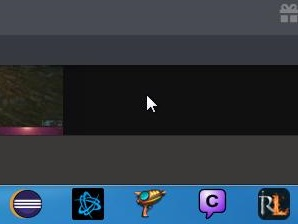cursor: (144, 92, 159, 115)
